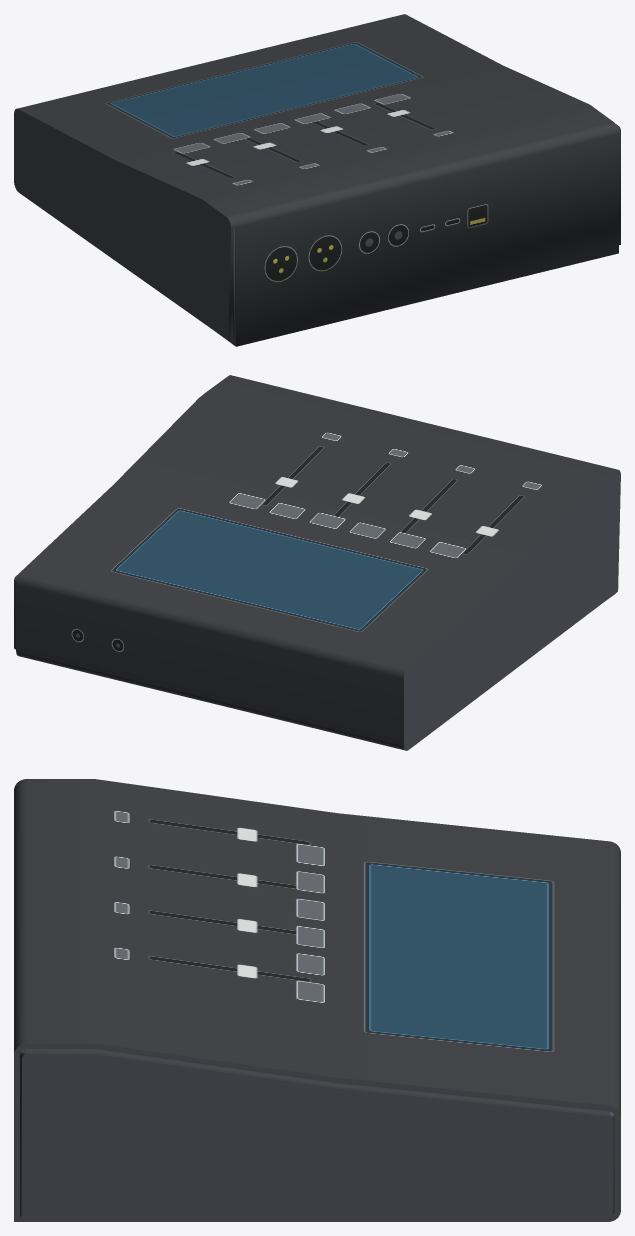
File: rode-rodecaster-duo.glb
The picture shows the model from 3 angles, top to bottom: view 1: azimuth 30°, elevation 25°; view 2: azimuth 150°, elevation 25°; view 3: azimuth 270°, elevation 25°; orthographic projection. The views are drawn at different scales.
Parts seen in each view (by area): view 1: rode-rodecaster-duo-body; view 2: rode-rodecaster-duo-body; view 3: rode-rodecaster-duo-body.
Boxes of the visible parts, <box> form: rode-rodecaster-duo-body: <box>14,14,620,346</box>; rode-rodecaster-duo-body: <box>14,375,620,750</box>; rode-rodecaster-duo-body: <box>14,779,620,1221</box>.
Size of the model in its own units: 0.235 by 0.076 by 0.225.
1 material, 1 textured.
